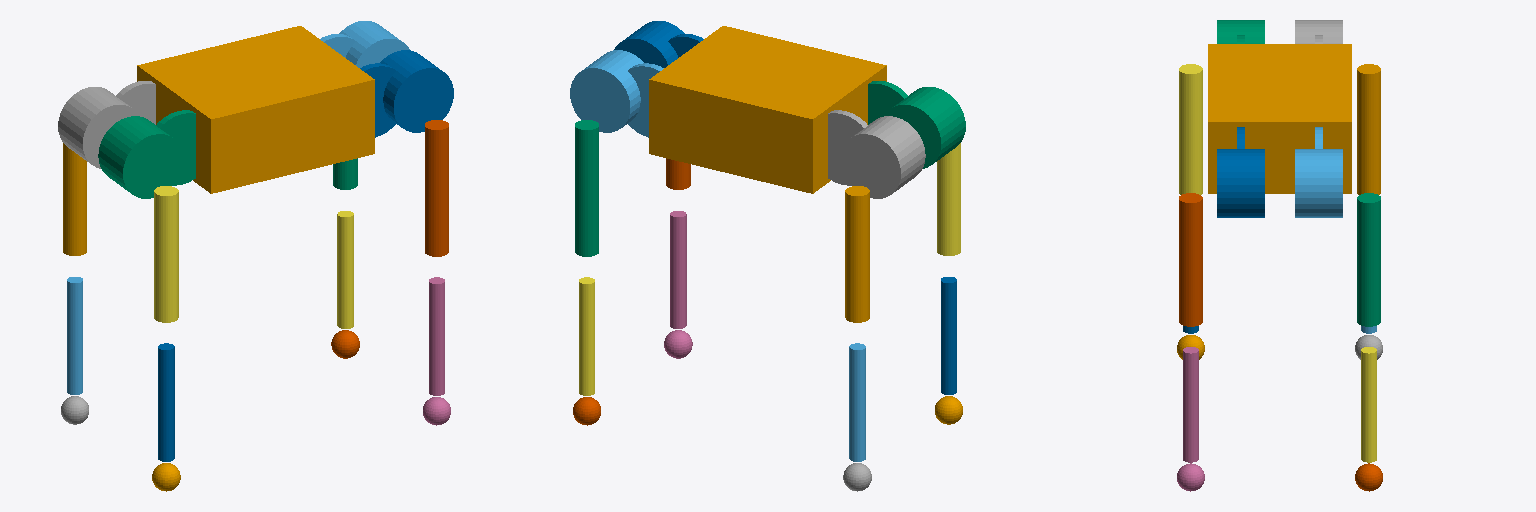
robot.urdf — mini_cheetah:
<?xml version="1.0" ?>
<robot name="mini_cheetah" xmlns:xacro="http://ros.org/wiki/xacro">



    <!--!!!!!!!!!!!!!!!!!!BODY!!!!!!!!!!!!!!!!!!!!!!!!!!!!!!!-->
    <link name="body">
        <inertial>
            <mass value="3.3"/>
            <origin xyz="0.0 0.0 0.0"/>
            <inertia ixx="0.011253" ixy="0" ixz="0" iyy="0.036203" iyz="0" izz="0.042673"/>
        </inertial>
        <visual>
            <geometry>
                <!--mesh filename="meshes/mini_body.obj"/!!!-->
                <box size="0.23 0.18 0.1"/>
            </geometry>
            <origin rpy="0.0 0.0 0.0" xyz="0.0 0.0 0.0"/>
        </visual>
        <collision>
            <geometry>
                <!--mesh filename="meshes/mini_body.obj"/-->
                <box size="0.23 0.18 0.1"/>
            </geometry>
            <origin rpy="0 0 0" xyz="0 0 0"/>
        </collision>
    </link>



    <!--!!!!!!!!!!!! Front Left Leg !!!!!!!!!!!!!!!!!!!!!!!!!!!!!!!!!!!!-->
    <joint name="torso_to_abduct_fl_j" type="continuous">
        <axis xyz="1 0 0"/>
        <origin rpy="0 0 0" xyz="0.19 0.049 0.0"/>
        <parent link="body"/>
        <child link="abduct_fl"/>
        <limit effort="18" lower="-1.6" upper="1.6" velocity="40"/>
    </joint>
    <link name="abduct_fl">
        <inertial>
            <mass value="0.54"/>
            <origin xyz="0.0 0.036 0."/>
            <inertia ixx="0.000381" ixy="0.000058" ixz="0.00000045" 
                iyy="0.000560" iyz="0.00000095" izz="0.000444"/>
        </inertial>
        <visual>
            <geometry>
                <!--mesh filename="meshes/mini_abad.obj"/-->
                <cylinder length ="0.01" radius = "0.0475"/>
            </geometry>
            <origin rpy="0. 1.5708 -1.5708" xyz="-0.055 0.0 0.0"/>
        </visual>
        <visual>
            <geometry>
                <!--mesh filename="meshes/mini_abad.obj"/-->
                <cylinder length ="0.06" radius = "0.0425"/>
            </geometry>
            <!--origin rpy="3.141592 0.0 1.5708" xyz="-0.055 0.0 0.0"/-->
            <origin rpy="1.5708 0.0 0.0" xyz="0.0 0.0 0.0"/>
        </visual>
        <collision>
            <geometry>
                <!--mesh filename="meshes/mini_abad.obj"/-->
                <cylinder length ="0.01" radius = "0.0475"/>
            </geometry>
            <!--origin rpy="0 0 -1.5708" xyz="-0.055 0 0"/-->
            <origin rpy="0 1.5708 -1.5708" xyz="-0.055 0.0 0.0"/>
        </collision>
        <collision>
            <geometry>
                <!--mesh filename="meshes/mini_abad.obj"/-->
                <cylinder length ="0.06" radius = "0.0425"/>
            </geometry>
            <!--origin rpy="0 0 -1.5708" xyz="-0.055 0 0"/-->
            <origin rpy="1.5708 0.0 0.0" xyz="0.0 0.0 0.0"/>
        </collision>
    </link>

    <joint name="abduct_fl_to_thigh_fl_j" type="continuous">
        <axis xyz="0 -1 0"/>
        <origin rpy="0.0 0.0 0.0" xyz="0.0 0.062 0.00"/>
        <parent link="abduct_fl"/>
        <child link="thigh_fl"/>
        <limit effort="18" lower="-2.6" upper="2.6" velocity="40"/>
    </joint>
    <link name="thigh_fl">
        <inertial>
            <mass value="0.634"/>
            <origin xyz="0.0 0.016 -0.02"/>
            <inertia ixx="0.001983" ixy="0.000245" ixz="0.000013" 
                iyy="0.002103" iyz="0.0000015" izz="0.000508"/>
        </inertial>
        <visual>
            <geometry>
                <!--mesh filename="meshes/mini_upper_link.obj"/-->
                <cylinder length ="0.17" radius = "0.015"/>
            </geometry>
            <origin rpy="0.0 0.0 0.0" xyz="0.0 0.0 -0.105"/>
        </visual>
        <collision>
            <geometry>
                <!--mesh filename="meshes/mini_upper_link.obj"/-->
                <cylinder length ="0.17" radius = "0.015"/>
            </geometry>
            <origin rpy="0.0 0.0 0.0" xyz="0.0 0.0 -0.105"/>
        </collision>
    </link>

    <joint name="thigh_fl_to_knee_fl_j" type="continuous">
        <axis xyz="0 -1 0"/>
        <origin rpy="0.0 0 0.0" xyz="0.0 0.0 -0.209"/>
        <parent link="thigh_fl"/>
        <child link="shank_fl"/>
        <limit effort="26" lower="-2.6" upper="2.6" velocity="26"/>
    </joint>
    <link name="shank_fl">
        <inertial>
            <mass value="0.064"/>
            <origin xyz="0.0 0.0 -0.209"/>
            <inertia ixx="0.000245" ixy="0" ixz="0.0" iyy="0.000248" iyz="0" izz="0.000006"/>
        </inertial>
        <visual>
            <geometry>
                <!--mesh filename="meshes/mini_lower_link.obj"/-->
                <cylinder length ="0.15" radius = "0.01"/>
            </geometry>
            <origin rpy="0.0 3.141592 0.0" xyz="0.0 0.0 -0.095"/>
        </visual>
        <collision>
            <geometry>
                <!--mesh filename="meshes/mini_lower_link.obj"/-->
                <cylinder length ="0.15" radius = "0.01"/>
            </geometry>
            <origin rpy="0.0 3.141592 0.0" xyz="0 0 -0.095"/>
        </collision>
    </link>




    <!--!!!!!!!!!!!! Front Right Leg !!!!!!!!!!!!!!!!!!!!!!!!!!!!!!!!!!!!-->

    <!--!!!!Joint!!!!!!!!!!!!-->
    <joint name="torso_to_abduct_fr_j" type="continuous">
        <axis xyz="1 0 0"/>
        <origin rpy="0 0 0" xyz="0.19 -0.049 0.0"/>
        <parent link="body"/>
        <child link="abduct_fr"/>
        <limit effort="18" lower="-1.6" upper="1.6" velocity="40"/>
    </joint>
    <link name="abduct_fr">
        <inertial>
            <mass value="0.54"/>
            <origin xyz="0.0 0.036 0."/>
            <inertia ixx="0.000381" ixy="0.000058" ixz="0.00000045" 
                iyy="0.000560" iyz="0.00000095" izz="0.000444"/>
        </inertial>
        <visual>
            <geometry>
                <!--mesh filename="meshes/mini_abad.obj"/-->
                <cylinder length ="0.01" radius = "0.0475"/>
            </geometry>
            <!--origin rpy="3.141592 0.0 1.5708" xyz="-0.055 0.0 0.0"/-->
            <origin rpy="3.141592 1.5708 1.5708" xyz="-0.055 0.0 0.0"/>
        </visual>
        <visual>
            <geometry>
                <!--mesh filename="meshes/mini_abad.obj"/-->
                <cylinder length ="0.06" radius = "0.0425"/>
            </geometry>
            <!--origin rpy="3.141592 0.0 1.5708" xyz="-0.055 0.0 0.0"/-->
            <origin rpy="1.5708 0.0 0.0" xyz="0.0 0.0 0.0"/>
        </visual>
        <collision>
            <geometry>
                <!--mesh filename="meshes/mini_abad.obj"/-->
                <cylinder length ="0.01" radius = "0.0475"/>
            </geometry>
            <origin rpy="3.141592 1.5708 1.5708" xyz="-0.055 0 0"/>
        </collision>
        <collision>
            <geometry>
                <!--mesh filename="meshes/mini_abad.obj"/-->
                <cylinder length ="0.06" radius = "0.0425"/>
            </geometry>
            <origin rpy="1.5708 0.0 0.0" xyz="-0.055 0 0"/>
        </collision>
    </link>

    <joint name="abduct_fr_to_thigh_fr_j" type="continuous">
        <axis xyz="0 -1 0"/>
        <origin rpy="0.0 0.0 0.0" xyz="0.0 -0.062 0.00"/>
        <parent link="abduct_fr"/>
        <child link="thigh_fr"/>
        <limit effort="18" lower="-2.6" upper="2.6" velocity="40"/>
    </joint>
    <link name="thigh_fr">
        <inertial>
            <mass value="0.634"/>
            <origin xyz="0.0 0.016 -0.02"/>
            <inertia ixx="0.001983" ixy="0.000245" ixz="0.000013" 
                iyy="0.002103" iyz="0.0000015" izz="0.000508"/>
        </inertial>
        <visual>
            <geometry>
                <!--mesh filename="meshes/mini_upper_link.obj"/-->
                <cylinder length ="0.17" radius = "0.015"/>
            </geometry>
            <origin rpy="0.0 0.0 0.0" xyz="0.0 0.0 -0.105"/>
        </visual>
        <collision>
            <geometry>
                <!--mesh filename="meshes/mini_upper_link.obj"/-->
                <cylinder length ="0.17" radius = "0.015"/>
            </geometry>
            <origin rpy="0.0 0.0 0.0" xyz="0.0 0.0 -0.105"/>
        </collision>
    </link>

    <joint name="thigh_fr_to_knee_fr_j" type="continuous">
        <axis xyz="0 -1 0"/>
        <origin rpy="0.0 0 0.0" xyz="0.0 0.0 -0.209"/>
        <parent link="thigh_fr"/>
        <child link="shank_fr"/>
        <limit effort="26" lower="-2.6" upper="2.6" velocity="26"/>
    </joint>
    <link name="shank_fr">
        <inertial>
            <mass value="0.064"/>
            <origin xyz="0.0 0.0 -0.209"/>
            <inertia ixx="0.000245" ixy="0" ixz="0.0" iyy="0.000248" iyz="0" izz="0.000006"/>
        </inertial>
        <visual>
            <geometry>
                <!--mesh filename="meshes/mini_lower_link.obj"/-->
                <cylinder length ="0.15" radius = "0.01"/>
            </geometry>
            <origin rpy="0.0 3.141592 0.0" xyz="0.0 0.0 -0.095"/>
        </visual>
        <collision>
            <geometry>
                <!--mesh filename="meshes/mini_lower_link.obj"/-->
                <cylinder length ="0.15" radius = "0.01"/>
            </geometry>
            <origin rpy="0.0 3.141592 0.0" xyz="0.0 0.0 -0.095"/>
        </collision>
    </link>





    <!--!!!!!!!!!!!! Hind Left Leg !!!!!!!!!!!!!!!!!!!!!!!!!!!!!!!!!!!!-->
    <joint name="torso_to_abduct_hl_j" type="continuous">
        <axis xyz="1 0 0"/>
        <origin rpy="0 0 0" xyz="-0.19 0.049 0.0"/>
        <parent link="body"/>
        <child link="abduct_hl"/>
        <limit effort="18" lower="-1.6" upper="1.6" velocity="40"/>
    </joint>
    <link name="abduct_hl">
        <inertial>
            <mass value="0.54"/>
            <origin xyz="0.0 0.036 0."/>
            <inertia ixx="0.000381" ixy="0.000058" ixz="0.00000045" 
                iyy="0.000560" iyz="0.00000095" izz="0.000444"/>
        </inertial>
        <visual>
            <geometry>
                <!--mesh filename="meshes/mini_abad.obj"/-->
                <cylinder length ="0.01" radius = "0.0475"/>
            </geometry>
            <!--origin rpy="3.141592 0.0 -1.5708" xyz="0.055 0.0 0.0"/-->
            <origin rpy="3.141592 1.5708 -1.5708" xyz="0.055 0.0 0.0"/>
        </visual>
        <visual>
            <geometry>
                <!--mesh filename="meshes/mini_abad.obj"/-->
                <cylinder length ="0.06" radius = "0.0425"/>
            </geometry>
            <!--origin rpy="3.141592 0.0 1.5708" xyz="-0.055 0.0 0.0"/-->
            <origin rpy="1.5708 0.0 0.0" xyz="0.0 0.0 0.0"/>
        </visual>
        <collision>
            <geometry>
                <!--mesh filename="meshes/mini_abad.obj"/-->
                <cylinder length ="0.01" radius = "0.0475"/>
            </geometry>
            <origin rpy="3.141592 1.5708 -1.5708" xyz="0.055 0 0"/>
        </collision>
        <collision>
            <geometry>
                <!--mesh filename="meshes/mini_abad.obj"/-->
                <cylinder length ="0.06" radius = "0.0425"/>
            </geometry>
            <origin rpy="1.5708 0.0 0.0" xyz="0.0 0.0 0.0"/>
        </collision>
    </link>

    <joint name="abduct_hl_to_thigh_hl_j" type="continuous">
        <axis xyz="0 -1 0"/>
        <origin rpy="0.0 0.0 0.0" xyz="0.0 0.062 0.00"/>
        <parent link="abduct_hl"/>
        <child link="thigh_hl"/>
        <limit effort="18" lower="-2.6" upper="2.6" velocity="40"/>
    </joint>
    <link name="thigh_hl">
        <inertial>
            <mass value="0.634"/>
            <origin xyz="0.0 0.016 -0.02"/>
            <inertia ixx="0.001983" ixy="0.000245" ixz="0.000013" 
                iyy="0.002103" iyz="0.0000015" izz="0.000508"/>
        </inertial>
        <visual>
            <geometry>
                <!--mesh filename="meshes/mini_upper_link.obj"/-->
                <cylinder length ="0.17" radius = "0.015"/>
            </geometry>
            <origin rpy="0.0 0.0 0.0" xyz="0.0 0.0 -0.105"/>
        </visual>
        <collision>
            <geometry>
                <!--mesh filename="meshes/mini_upper_link.obj"/-->
                <cylinder length ="0.17" radius = "0.015"/>
            </geometry>
            <origin rpy="0.0 0.0 0.0" xyz="0.0 0.0 -0.105"/>
        </collision>
    </link>

    <joint name="thigh_hl_to_knee_hl_j" type="continuous">
        <axis xyz="0 -1 0"/>
        <origin rpy="0.0 0 0.0" xyz="0.0 0.0 -0.209"/>
        <parent link="thigh_hl"/>
        <child link="shank_hl"/>
        <limit effort="26" lower="-2.6" upper="2.6" velocity="26"/>
    </joint>
    <link name="shank_hl">
        <inertial>
            <mass value="0.064"/>
            <origin xyz="0.0 0.0 -0.209"/>
            <inertia ixx="0.000245" ixy="0" ixz="0.0" iyy="0.000248" iyz="0" izz="0.000006"/>
        </inertial>
        <visual>
            <geometry>
                <!--mesh filename="meshes/mini_lower_link.obj"/-->
                <cylinder length ="0.15" radius = "0.01"/>
            </geometry>
            <origin rpy="0.0 3.141592 0.0" xyz="0.0 0.0 -0.095"/>
        </visual>
        <collision>
            <geometry>
                <!--mesh filename="meshes/mini_lower_link.obj"/-->
                <cylinder length ="0.15" radius = "0.01"/>
            </geometry>
            <origin rpy="0.0 3.141592 0.0" xyz="0.0 0.0 -0.095"/>
        </collision>
    </link>



    <!--!!!!!!!!!!!! Hind Right Leg !!!!!!!!!!!!!!!!!!!!!!!!!!!!!!!!!!!!-->
    <joint name="torso_to_abduct_hr_j" type="continuous">
        <axis xyz="1 0 0"/>
        <origin rpy="0 0 0" xyz="-0.19 -0.049 0.0"/>
        <parent link="body"/>
        <child link="abduct_hr"/>
        <limit effort="18" lower="-1.6" upper="1.6" velocity="40"/>
    </joint>
    <link name="abduct_hr">
        <inertial>
            <mass value="0.54"/>
            <origin xyz="0.0 0.036 0."/>
            <inertia ixx="0.000381" ixy="0.000058" ixz="0.00000045" 
                iyy="0.000560" iyz="0.00000095" izz="0.000444"/>
        </inertial>
        <visual>
            <geometry>
                <!--mesh filename="meshes/mini_abad.obj"/-->
                <cylinder length ="0.01" radius = "0.0475"/>
            </geometry>
            <!--origin rpy="0.0 0.0 1.5708" xyz="0.055 0.0 0.0"/-->
            <origin rpy="0.0 1.5708 1.5708" xyz="0.055 0.0 0.0"/>
        </visual>
        <visual>
            <geometry>
                <!--mesh filename="meshes/mini_abad.obj"/-->
                <cylinder length ="0.06" radius = "0.0425"/>
            </geometry>
            <!--origin rpy="3.141592 0.0 1.5708" xyz="-0.055 0.0 0.0"/-->
            <origin rpy="1.5708 0.0 0.0" xyz="0.0 0.0 0.0"/>
        </visual>
        <collision>
            <geometry>
                <!--mesh filename="meshes/mini_abad.obj"/-->
                <cylinder length ="0.01" radius = "0.0475"/>
            </geometry>
            <origin rpy="0.0 1.5708 1.5708" xyz="0.055 0.0 0.0"/>
        </collision>
        <collision>
            <geometry>
                <!--mesh filename="meshes/mini_abad.obj"/-->
                <cylinder length ="0.06" radius = "0.0425"/>
            </geometry>
            <origin rpy="1.5708 0.0 0.0" xyz="0.0 0.0 0.0"/>
        </collision>
    </link>

    <joint name="abduct_hr_to_thigh_hr_j" type="continuous">
        <axis xyz="0 -1 0"/>
        <origin rpy="0.0 0.0 0.0" xyz="0.0 -0.062 0.00"/>
        <parent link="abduct_hr"/>
        <child link="thigh_hr"/>
        <limit effort="18" lower="-2.6" upper="2.6" velocity="40"/>
    </joint>
    <link name="thigh_hr">
        <inertial>
            <mass value="0.634"/>
            <origin xyz="0.0 0.016 -0.02"/>
            <inertia ixx="0.001983" ixy="0.000245" ixz="0.000013" 
                iyy="0.002103" iyz="0.0000015" izz="0.000508"/>
        </inertial>
        <visual>
            <geometry>
                <!--mesh filename="meshes/mini_upper_link.obj"/-->
                <cylinder length ="0.17" radius = "0.015"/>
            </geometry>
            <origin rpy="0.0 0.0 0.0" xyz="0.0 0.0 -0.105"/>
        </visual>
        <collision>
            <geometry>
                <!--mesh filename="meshes/mini_upper_link.obj"/-->
                <cylinder length ="0.17" radius = "0.015"/>
            </geometry>
            <origin rpy="0.0 0.0 0.0" xyz="0.0 0.0 -0.105"/>
        </collision>
    </link>

    <joint name="thigh_hr_to_knee_hr_j" type="continuous">
        <axis xyz="0 -1 0"/>
        <origin rpy="0.0 0 0.0" xyz="0.0 0.0 -0.209"/>
        <parent link="thigh_hr"/>
        <child link="shank_hr"/>
        <limit effort="26" lower="-2.6" upper="2.6" velocity="26"/>
    </joint>
    <link name="shank_hr">
        <inertial>
            <mass value="0.064"/>
            <origin xyz="0.0 0.0 -0.209"/>
            <inertia ixx="0.000245" ixy="0" ixz="0.0" iyy="0.000248" iyz="0" izz="0.000006"/>
        </inertial>
        <visual>
            <geometry>
                <!--mesh filename="meshes/mini_lower_link.obj"/-->
                <cylinder length ="0.15" radius = "0.01"/>
            </geometry>
            <origin rpy="0.0 3.141592 0.0" xyz="0.0 0.0 -0.095"/>
        </visual>
        <collision>
            <geometry>
                <!--mesh filename="meshes/mini_lower_link.obj"/-->
                <cylinder length ="0.15" radius = "0.01"/>
            </geometry>
            <origin rpy="0.0 3.141592 0.0" xyz="0 0 -0.095"/>
        </collision>

    </link>

    <!-- Add foot links to enable relevent computations, including better collision detection -->
    <joint name="shank_fl_to_foot_fl" type="fixed">
        <parent link="shank_fl"/>
        <child link="LF_FOOT"/>
        <origin rpy="0.0 0.0 0.0" xyz="0.0 0.0 -0.195"/>
    </joint>
    <link name="LF_FOOT">
        <collision>
            <geometry>
                <sphere radius = "0.0175"/>
            </geometry>
            <origin rpy="0.0 0.0 0.0" xyz="0.0 0.0 0.0"/>
        </collision>
        <visual>
            <geometry>
                <sphere radius = "0.0175"/>
            </geometry>
            <origin rpy="0.0 0.0 0.0" xyz="0.0 0.0 0.0"/>
        </visual>
    </link>

    <joint name="shank_fr_to_foot_fr" type="fixed">
        <parent link="shank_fr"/>
        <child link="RF_FOOT"/>
        <origin rpy="0.0 0.0 0.0" xyz="0.0 0.0 -0.195"/>
    </joint>
    <link name="RF_FOOT">
        <collision>
            <geometry>
                <sphere radius = "0.0175"/>
            </geometry>
            <origin rpy="0.0 0.0 0.0" xyz="0.0 0.0 0.0"/>
        </collision>
        <visual>
            <geometry>
                <sphere radius = "0.0175"/>
            </geometry>
            <origin rpy="0.0 0.0 0.0" xyz="0.0 0.0 0.0"/>
        </visual>
    </link>

    <joint name="shank_hl_to_foot_hl" type="fixed">
        <parent link="shank_hl"/>
        <child link="LH_FOOT"/>
        <origin rpy="0.0 0.0 0.0" xyz="0.0 0.0 -0.195"/>
    </joint>
    <link name="LH_FOOT">
        <collision>
            <geometry>
                <sphere radius = "0.0175"/>
            </geometry>
            <origin rpy="0.0 0.0 0.0" xyz="0.0 0.0 0.0"/>
        </collision>
        <visual>
            <geometry>
                <sphere radius = "0.0175"/>
            </geometry>
            <origin rpy="0.0 0.0 0.0" xyz="0.0 0.0 0.0"/>
        </visual>
    </link>

    <joint name="shank_hr_to_foot_hr" type="fixed">
        <parent link="shank_hr"/>
        <child link="RH_FOOT"/>
        <origin rpy="0.0 0.0 0.0" xyz="0.0 0.0 -0.195"/>
    </joint>
    <link name="RH_FOOT">
        <collision>
            <geometry>
                <sphere radius = "0.0175"/>
            </geometry>
            <origin rpy="0.0 0.0 0.0" xyz="0.0 0.0 0.0"/>
        </collision>
        <visual>
            <geometry>
                <sphere radius = "0.0175"/>
            </geometry>
            <origin rpy="0.0 0.0 0.0" xyz="0.0 0.0 0.0"/>
        </visual>
    </link>

    <!-- Joint Transmissions: Tells Drake that these are actuated -->
    <transmission name="torso_to_abduct_fl_j_transmission">
        <type>transmission_interface/SimpleTransmission</type>
        <joint name="torso_to_abduct_fl_j"/>
        <actuator name="torso_to_abduct_fl_j_actuator"/>
    </transmission>
    <transmission name="abduct_fl_to_thigh_fl_j_transmission">
        <type>transmission_interface/SimpleTransmission</type>
        <joint name="abduct_fl_to_thigh_fl_j"/>
        <actuator name="abduct_fl_to_thigh_fl_j_actuator"/>
    </transmission>
    <transmission name="thigh_fl_to_knee_fl_j_transmission">
        <type>transmission_interface/SimpleTransmission</type>
        <joint name="thigh_fl_to_knee_fl_j"/>
        <actuator name="thigh_fl_to_knee_fl_j_actuator"/>
    </transmission>

    <transmission name="torso_to_abduct_fr_j_transmission">
        <type>transmission_interface/SimpleTransmission</type>
        <joint name="torso_to_abduct_fr_j"/>
        <actuator name="torso_to_abduct_fr_j_actuator"/>
    </transmission>
    <transmission name="abduct_fr_to_thigh_fr_j_transmission">
        <type>transmission_interface/SimpleTransmission</type>
        <joint name="abduct_fr_to_thigh_fr_j"/>
        <actuator name="abduct_fr_to_thigh_fr_j_actuator"/>
    </transmission>
    <transmission name="thigh_fr_to_knee_fr_j_transmission">
        <type>transmission_interface/SimpleTransmission</type>
        <joint name="thigh_fr_to_knee_fr_j"/>
        <actuator name="thigh_fr_to_knee_fr_j_actuator"/>
    </transmission>

    <transmission name="torso_to_abduct_hl_j_transmission">
        <type>transmission_interface/SimpleTransmission</type>
        <joint name="torso_to_abduct_hl_j"/>
        <actuator name="torso_to_abduct_hl_j_actuator"/>
    </transmission>
    <transmission name="abduct_hl_to_thigh_hl_j_transmission">
        <type>transmission_interface/SimpleTransmission</type>
        <joint name="abduct_hl_to_thigh_hl_j"/>
        <actuator name="abduct_hl_to_thigh_hl_j_actuator"/>
    </transmission>
    <transmission name="thigh_hl_to_knee_hl_j_transmission">
        <type>transmission_interface/SimpleTransmission</type>
        <joint name="thigh_hl_to_knee_hl_j"/>
        <actuator name="thigh_hl_to_knee_hl_j_actuator"/>
    </transmission>

    <transmission name="torso_to_abduct_hr_j_transmission">
        <type>transmission_interface/SimpleTransmission</type>
        <joint name="torso_to_abduct_hr_j"/>
        <actuator name="torso_to_abduct_hr_j_actuator"/>
    </transmission>
    <transmission name="abduct_hr_to_thigh_hr_j_transmission">
        <type>transmission_interface/SimpleTransmission</type>
        <joint name="abduct_hr_to_thigh_hr_j"/>
        <actuator name="abduct_hr_to_thigh_hr_j_actuator"/>
    </transmission>
    <transmission name="thigh_hr_to_knee_hr_j_transmission">
        <type>transmission_interface/SimpleTransmission</type>
        <joint name="thigh_hr_to_knee_hr_j"/>
        <actuator name="thigh_hr_to_knee_hr_j_actuator"/>
    </transmission>


</robot>

--- What the picture shows (computed from the rendered views, not written in the file) ---
Views: 3 orthographic renders of the robot side by side, from view 1: azimuth 30°, elevation 25°; view 2: azimuth 150°, elevation 25°; view 3: azimuth 270°, elevation 25°.
Model mini_cheetah with 17 links and 16 joints (12 continuous, 4 fixed), rooted at body, posed every joint at zero.
Links seen in each view (by area): view 1: body, abduct_hr, abduct_fr, abduct_hl, thigh_hr, thigh_fr, thigh_hl, abduct_fl, shank_hr, shank_fl, shank_fr, shank_hl (+5 smaller); view 2: body, abduct_hl, abduct_fl, abduct_hr, thigh_hl, thigh_fl, thigh_hr, abduct_fr, shank_hl, shank_fr, shank_fl, shank_hr (+5 smaller); view 3: body, abduct_fl, abduct_fr, thigh_fl, thigh_fr, thigh_hl, thigh_hr, shank_fl, shank_fr, abduct_hl, abduct_hr, LF_FOOT (+1 smaller).
Link boxes in pixels (<box>): body: <box>137,26,374,193</box>; abduct_hr: <box>98,110,195,198</box>; abduct_fr: <box>360,50,453,137</box>; abduct_hl: <box>58,81,155,168</box>; thigh_hr: <box>154,186,178,322</box>; thigh_fr: <box>425,120,448,256</box>; thigh_hl: <box>63,143,86,255</box>; abduct_fl: <box>320,21,409,67</box>; shank_hr: <box>158,343,174,461</box>; shank_fl: <box>337,211,353,328</box>; shank_fr: <box>429,277,444,395</box>; shank_hl: <box>67,277,82,394</box>; body: <box>649,26,886,193</box>; abduct_hl: <box>828,110,925,198</box>; abduct_fl: <box>570,50,663,137</box>; abduct_hr: <box>868,81,965,168</box>; thigh_hl: <box>845,186,869,322</box>; thigh_fl: <box>575,120,598,256</box>; thigh_hr: <box>937,143,960,255</box>; abduct_fr: <box>614,21,703,67</box>; shank_hl: <box>849,343,865,461</box>; shank_fr: <box>670,211,686,328</box>; shank_fl: <box>579,277,594,395</box>; shank_hr: <box>941,277,956,394</box>; body: <box>1208,44,1351,193</box>; abduct_fl: <box>1295,127,1342,217</box>; abduct_fr: <box>1217,127,1264,217</box>; thigh_fl: <box>1357,193,1380,326</box>; thigh_fr: <box>1179,193,1202,326</box>; thigh_hl: <box>1357,64,1380,194</box>; thigh_hr: <box>1179,64,1202,194</box>; shank_fl: <box>1361,347,1376,462</box>; shank_fr: <box>1183,347,1198,462</box>; abduct_hl: <box>1295,20,1342,43</box>; abduct_hr: <box>1217,20,1264,43</box>; LF_FOOT: <box>1355,463,1382,491</box>.
Bounding box of the posed robot: 0.465 × 0.257 × 0.4715 m (x, y, z).
Geometry: primitives only (box / cylinder / sphere), no mesh files.
